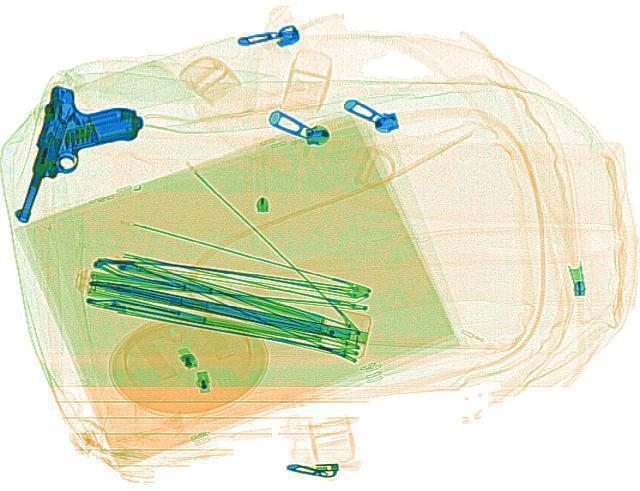Gun: (8, 83, 150, 232)
